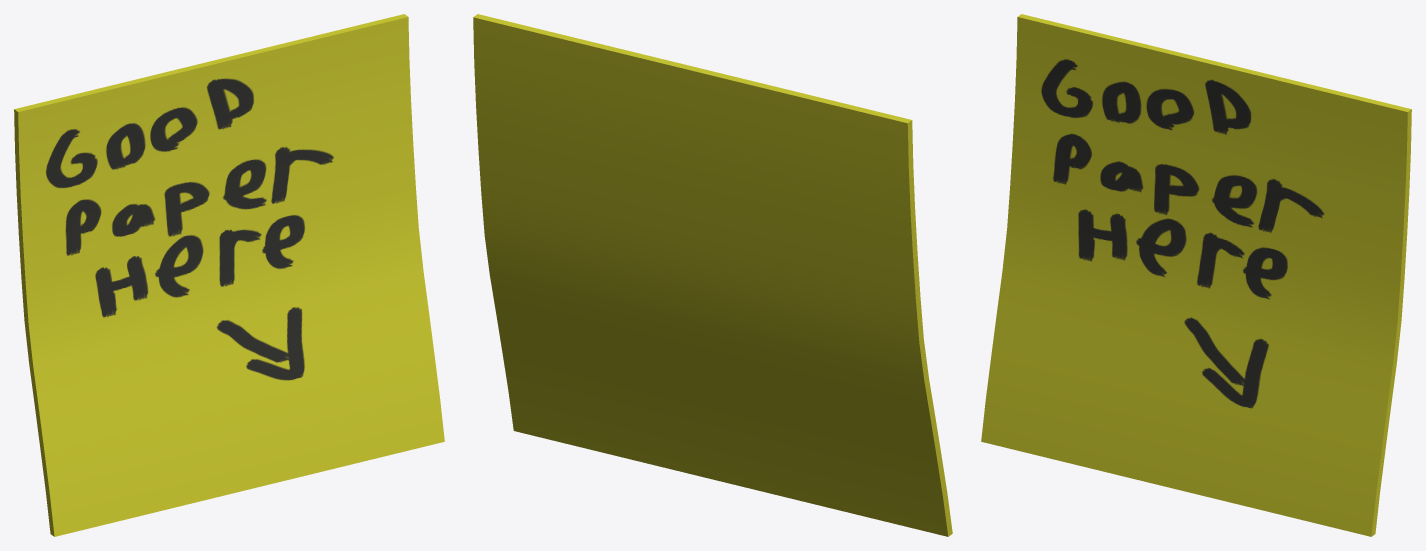
The model's file is good paper here.fbx.
The picture shows the model from 3 angles, left to right: view 1: azimuth 30°, elevation 25°; view 2: azimuth 150°, elevation 25°; view 3: azimuth 330°, elevation 25°; orthographic projection. The views are drawn at different scales.
Visible parts, largest first — view 1: pPlane1; view 2: pPlane1; view 3: pPlane1.
Part boxes in pixels (<box>): pPlane1: <box>14,14,444,536</box>; pPlane1: <box>473,14,952,536</box>; pPlane1: <box>981,14,1411,536</box>.
Size of the model in its own units: 8.93 by 8.7 by 1.6.
